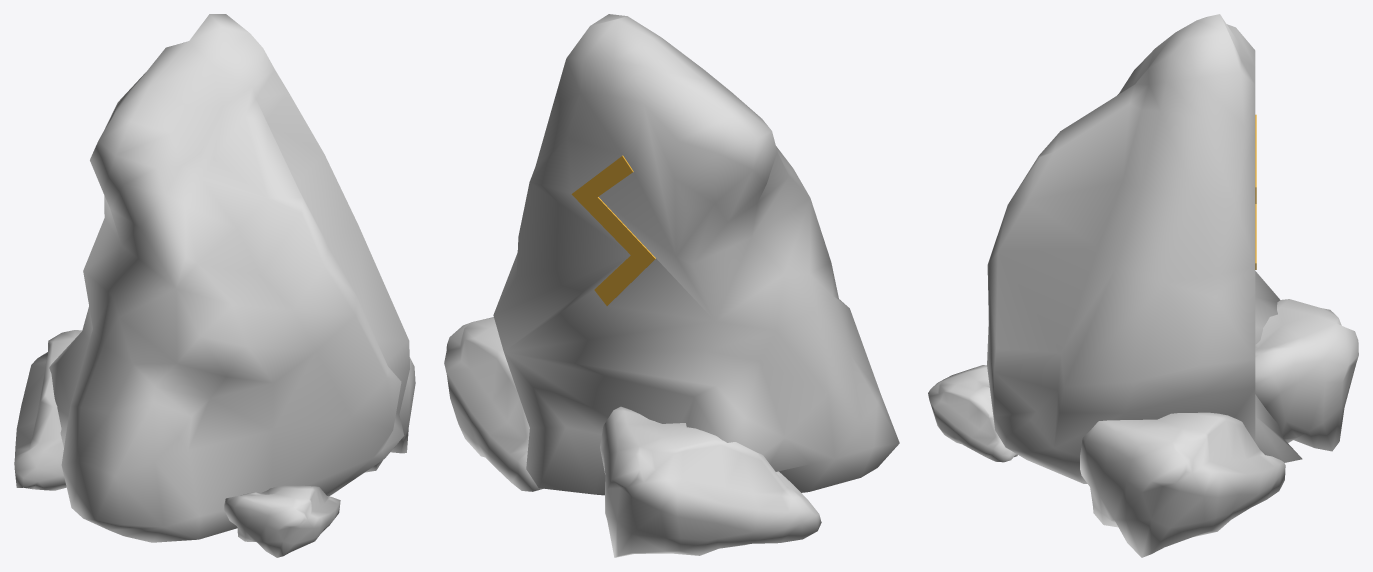
Rendered from Sowulo.fbx.
3 renders of one model, left to right at view 1: azimuth 30°, elevation 25°; view 2: azimuth 150°, elevation 25°; view 3: azimuth 270°, elevation 25°, orthographic. The views are drawn at different scales.
Visible parts, largest first — view 1: stone; view 2: stone, Sowulo; view 3: stone.
Part boxes in pixels (box(x1,y1,x2,y2)): stone: box(14, 14, 415, 557); stone: box(444, 14, 899, 557); Sowulo: box(571, 155, 655, 305); stone: box(928, 14, 1358, 557).
Bounding box in the file's own units: 155 × 181 × 152.
